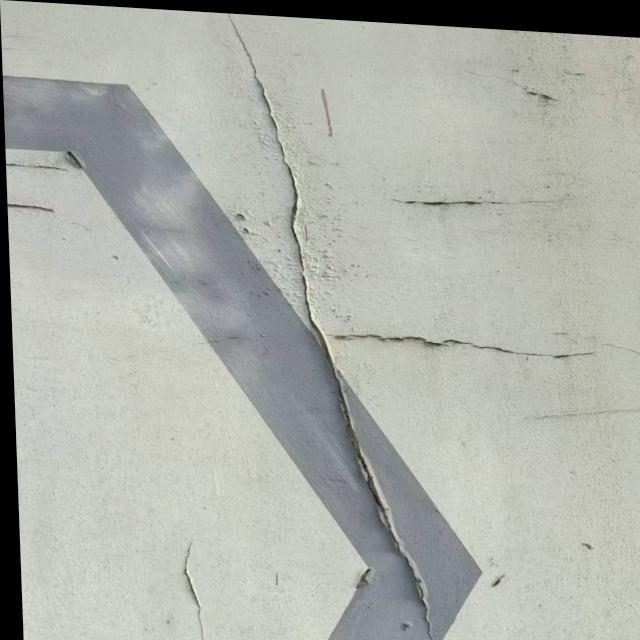crack: (211, 21, 606, 640), (182, 539, 207, 640), (8, 161, 73, 175)
